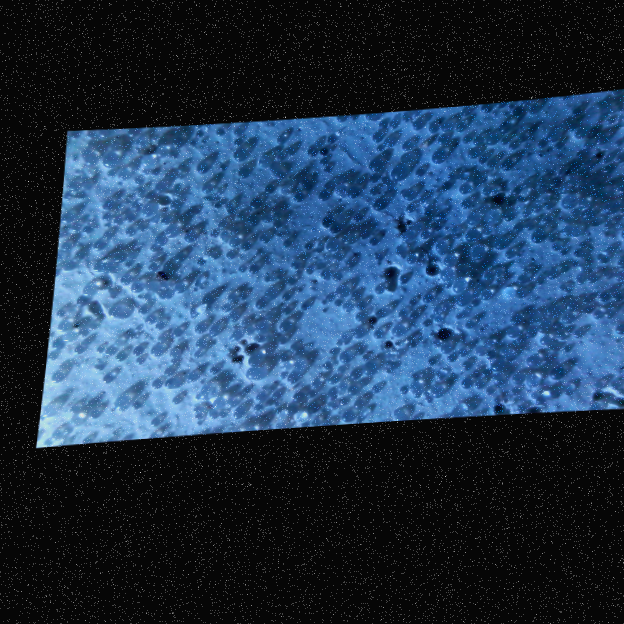GrassBeadSeg: (102, 155, 466, 404), (200, 244, 487, 397), (115, 291, 465, 408), (453, 200, 617, 413), (242, 175, 454, 311), (188, 222, 440, 319), (431, 162, 623, 251), (195, 352, 401, 424), (54, 199, 177, 317), (500, 186, 568, 358), (460, 197, 597, 282), (492, 294, 610, 381), (109, 152, 407, 180), (396, 336, 495, 419), (421, 290, 547, 355), (495, 322, 623, 383), (62, 280, 140, 379), (334, 358, 499, 403), (166, 334, 249, 419), (147, 217, 280, 270), (319, 306, 494, 346), (355, 269, 491, 320), (209, 288, 359, 334), (337, 252, 382, 404), (503, 133, 557, 255), (100, 140, 144, 288), (76, 333, 166, 404), (450, 177, 560, 235), (252, 357, 368, 410), (66, 290, 150, 362), (485, 133, 552, 223), (471, 275, 585, 327), (263, 337, 348, 406), (537, 264, 622, 331), (61, 392, 200, 432), (203, 342, 337, 383), (340, 209, 499, 242), (151, 260, 264, 306), (451, 276, 517, 354), (240, 133, 284, 250), (40, 362, 102, 445), (50, 412, 242, 438), (61, 344, 114, 436), (481, 274, 545, 348), (306, 121, 437, 156), (208, 229, 382, 255), (258, 231, 282, 416), (445, 142, 561, 180), (514, 250, 543, 399), (88, 378, 196, 418), (84, 295, 144, 363), (454, 207, 496, 304), (361, 167, 425, 229), (548, 308, 615, 363), (480, 347, 569, 388), (476, 327, 521, 407), (562, 332, 621, 393), (360, 372, 447, 413), (73, 192, 123, 263), (355, 164, 401, 241), (278, 171, 321, 252), (80, 324, 253, 344), (155, 201, 221, 249), (94, 378, 175, 417), (501, 197, 576, 239), (456, 311, 548, 344), (563, 287, 619, 341), (283, 298, 366, 334), (320, 370, 391, 410), (226, 358, 286, 405), (70, 167, 114, 231), (331, 339, 439, 365), (63, 409, 225, 426), (399, 119, 524, 141), (393, 398, 542, 416), (362, 348, 402, 415), (139, 217, 169, 305), (541, 316, 573, 397), (175, 153, 283, 177), (434, 140, 468, 215), (152, 290, 236, 320), (224, 371, 286, 411), (573, 334, 623, 383), (216, 290, 246, 370), (537, 202, 617, 232), (460, 104, 530, 137), (109, 379, 158, 425), (194, 239, 239, 289), (494, 214, 527, 281), (547, 248, 581, 313), (530, 194, 576, 241), (149, 193, 221, 223), (195, 295, 236, 347), (113, 384, 215, 404), (202, 181, 257, 218), (88, 131, 109, 226), (333, 232, 430, 252), (93, 290, 117, 369), (274, 172, 377, 190), (193, 306, 229, 357), (376, 108, 419, 150), (579, 205, 623, 246), (571, 298, 621, 334), (237, 236, 289, 270), (216, 219, 256, 263), (386, 119, 423, 166), (325, 143, 383, 172), (518, 203, 571, 234), (260, 202, 331, 225), (461, 201, 521, 228), (493, 238, 526, 287), (546, 256, 621, 277), (165, 166, 247, 185), (61, 170, 115, 198), (435, 367, 491, 394), (482, 184, 538, 211), (137, 173, 180, 208), (74, 327, 131, 353), (274, 252, 329, 278), (349, 369, 417, 390), (186, 371, 217, 417), (195, 256, 270, 275), (600, 153, 623, 214), (459, 375, 575, 387), (179, 364, 217, 400), (476, 158, 528, 184), (379, 272, 409, 317), (548, 225, 612, 246), (539, 316, 600, 338), (140, 234, 164, 288), (420, 285, 450, 328), (439, 310, 467, 356), (105, 195, 151, 223), (295, 250, 327, 290), (97, 129, 239, 138), (197, 385, 248, 410), (331, 292, 344, 390), (527, 103, 575, 129), (515, 267, 558, 296), (534, 277, 574, 308), (479, 271, 526, 297), (94, 273, 127, 310), (131, 346, 160, 386), (483, 334, 532, 357), (272, 399, 317, 424), (352, 202, 414, 220), (208, 273, 300, 285), (57, 345, 103, 369), (545, 211, 574, 249), (473, 130, 556, 143), (299, 271, 326, 310), (249, 171, 270, 221), (285, 132, 335, 153), (569, 152, 586, 213), (333, 298, 478, 305), (455, 119, 497, 143), (481, 226, 501, 275), (345, 259, 383, 284), (590, 310, 602, 389), (50, 403, 77, 438), (292, 244, 322, 274), (412, 341, 440, 373), (549, 309, 591, 330), (373, 307, 440, 320), (430, 359, 454, 395), (171, 327, 201, 355), (485, 139, 516, 166), (325, 347, 363, 369), (421, 288, 490, 300), (127, 272, 147, 313), (538, 273, 620, 283), (465, 243, 486, 282), (373, 286, 407, 310), (405, 228, 429, 262), (355, 210, 379, 244), (596, 228, 623, 258), (217, 208, 244, 238), (404, 204, 423, 246), (490, 358, 523, 382), (557, 181, 590, 205), (356, 310, 384, 338), (59, 306, 86, 335), (291, 347, 330, 367), (218, 155, 282, 167), (473, 378, 518, 395), (385, 344, 414, 370), (568, 197, 588, 234), (319, 255, 354, 276), (382, 117, 438, 130), (570, 101, 622, 115), (232, 396, 265, 418), (208, 239, 248, 257), (507, 143, 587, 152), (270, 389, 335, 400), (517, 272, 596, 281), (154, 180, 166, 239), (492, 335, 524, 357), (494, 364, 519, 392), (560, 329, 618, 341), (304, 388, 347, 404), (250, 324, 286, 343), (290, 365, 321, 387), (93, 320, 133, 337), (131, 398, 158, 423), (273, 351, 287, 399), (458, 360, 482, 388), (229, 248, 257, 272), (525, 373, 554, 396), (252, 334, 261, 408), (341, 176, 376, 195), (521, 342, 551, 364), (135, 292, 155, 325), (198, 421, 280, 429), (222, 219, 281, 230), (106, 198, 134, 221), (148, 134, 238, 141), (97, 215, 122, 240), (95, 343, 143, 356), (47, 349, 115, 358), (502, 210, 515, 257), (480, 156, 496, 194), (72, 261, 86, 304), (213, 182, 273, 192), (544, 310, 572, 331), (478, 137, 506, 158), (425, 356, 470, 369), (336, 364, 356, 393), (60, 222, 80, 251), (374, 313, 408, 330), (284, 276, 308, 300), (409, 340, 424, 377), (292, 382, 321, 401), (338, 176, 363, 198), (221, 302, 247, 323), (397, 384, 439, 397), (517, 366, 562, 378), (401, 302, 414, 343), (502, 136, 543, 149), (472, 343, 486, 381), (258, 297, 291, 313), (611, 102, 623, 146), (486, 102, 538, 112), (155, 139, 241, 145), (286, 372, 337, 382), (600, 163, 623, 185), (597, 255, 609, 297), (249, 187, 274, 207), (284, 289, 309, 309), (602, 292, 622, 317), (407, 297, 477, 304), (176, 144, 194, 171), (409, 374, 431, 396), (565, 276, 609, 287), (499, 390, 536, 403), (404, 278, 452, 288), (255, 391, 302, 401), (51, 342, 63, 381), (56, 330, 74, 356), (92, 255, 123, 270), (543, 304, 576, 318), (457, 123, 481, 142), (139, 394, 180, 405), (228, 234, 269, 245), (91, 228, 112, 249), (352, 390, 379, 406), (404, 310, 417, 343), (462, 319, 474, 354), (526, 353, 539, 385), (328, 384, 344, 410), (604, 116, 620, 142), (423, 195, 441, 218), (611, 186, 622, 223), (74, 250, 103, 264), (136, 143, 144, 193), (604, 141, 623, 162), (207, 404, 235, 418), (525, 213, 551, 228), (142, 213, 168, 228), (317, 157, 330, 187), (512, 192, 528, 216), (503, 394, 523, 413), (522, 327, 560, 337), (598, 134, 611, 163), (103, 226, 134, 238), (581, 282, 593, 313), (337, 371, 348, 404), (505, 200, 524, 219), (453, 314, 483, 326), (346, 385, 362, 407), (153, 320, 180, 333), (259, 384, 277, 403), (294, 257, 314, 274), (558, 240, 584, 253), (107, 289, 149, 297), (63, 241, 74, 271), (427, 303, 442, 325), (50, 335, 75, 348), (266, 384, 280, 407), (147, 221, 158, 250), (112, 351, 124, 377), (430, 352, 456, 364), (464, 102, 490, 114), (81, 223, 91, 254), (544, 181, 558, 203), (309, 408, 326, 426), (149, 373, 172, 386), (293, 349, 335, 356), (239, 294, 248, 326), (246, 213, 272, 224), (132, 175, 143, 201), (282, 360, 296, 380), (280, 238, 311, 247), (150, 168, 183, 176), (412, 314, 441, 323), (161, 366, 174, 386), (215, 167, 225, 193), (483, 209, 501, 223), (321, 267, 342, 279), (141, 167, 182, 173), (161, 284, 196, 291), (109, 301, 124, 317), (322, 180, 362, 186), (144, 314, 162, 327), (511, 105, 540, 113), (513, 219, 534, 230), (581, 161, 614, 168), (303, 241, 313, 264), (378, 117, 397, 129), (308, 390, 336, 398), (518, 127, 532, 143), (452, 227, 489, 233), (213, 247, 235, 257), (310, 145, 328, 157), (221, 210, 245, 219), (421, 369, 429, 396), (542, 139, 560, 151), (42, 401, 57, 415), (206, 128, 223, 140), (583, 157, 623, 162), (367, 174, 377, 194), (332, 254, 343, 272), (155, 143, 169, 157), (116, 166, 131, 179), (140, 153, 155, 166), (56, 318, 71, 331), (149, 342, 164, 355), (71, 411, 86, 424), (340, 297, 355, 310), (408, 380, 420, 396), (372, 196, 386, 209), (346, 184, 360, 197), (368, 157, 382, 170), (458, 180, 472, 193), (466, 210, 480, 223), (258, 152, 271, 166), (142, 201, 155, 215), (195, 159, 209, 172), (84, 150, 97, 164), (245, 365, 259, 378), (168, 345, 182, 358), (339, 348, 353, 361), (263, 285, 277, 298), (464, 227, 478, 240), (592, 380, 618, 387), (165, 223, 180, 235), (81, 282, 96, 294), (287, 343, 302, 355), (509, 184, 527, 194), (276, 135, 293, 145), (431, 149, 444, 162), (184, 228, 197, 241), (391, 323, 404, 336), (227, 308, 240, 321), (247, 352, 260, 365), (403, 186, 416, 199), (435, 238, 448, 251), (443, 252, 456, 265), (508, 311, 521, 324), (325, 237, 339, 249), (233, 146, 247, 158), (277, 319, 291, 331), (254, 319, 268, 331), (335, 283, 349, 295), (293, 409, 307, 421), (362, 361, 376, 373), (352, 325, 366, 337), (193, 320, 207, 332), (401, 228, 415, 240), (439, 266, 453, 278), (438, 341, 452, 353), (494, 392, 535, 396), (289, 259, 299, 275), (269, 398, 279, 414), (212, 395, 225, 407), (341, 408, 354, 420), (573, 125, 586, 137), (323, 134, 336, 146), (506, 325, 520, 336), (400, 138, 414, 149), (351, 288, 365, 299), (325, 292, 342, 301), (402, 388, 421, 396), (357, 230, 378, 237), (531, 201, 552, 208), (436, 132, 448, 144), (329, 220, 341, 232), (362, 383, 380, 391), (407, 247, 425, 255), (134, 219, 146, 231), (81, 320, 97, 329), (400, 113, 418, 121), (580, 207, 593, 218), (499, 158, 512, 169), (466, 145, 479, 156), (498, 120, 511, 131), (411, 117, 424, 128), (440, 119, 453, 130), (279, 291, 290, 304), (188, 132, 201, 143), (262, 273, 282, 280), (86, 131, 106, 138), (518, 98, 528, 112), (352, 376, 369, 384), (602, 271, 619, 279), (148, 293, 163, 302), (492, 268, 501, 283), (502, 285, 514, 296), (371, 130, 383, 141), (128, 201, 141, 211), (551, 247, 583, 251), (102, 200, 113, 211), (383, 135, 395, 145), (101, 213, 121, 219), (192, 396, 200, 411), (564, 299, 576, 309), (157, 284, 165, 298), (318, 189, 329, 199), (292, 190, 303, 200), (174, 250, 184, 261), (119, 273, 130, 283), (60, 211, 71, 221), (105, 166, 115, 177), (358, 350, 369, 360), (320, 162, 331, 172), (607, 378, 619, 387), (276, 411, 283, 426), (197, 130, 205, 143), (174, 281, 184, 291), (231, 329, 241, 339), (334, 183, 345, 192), (101, 372, 112, 381), (589, 308, 600, 317), (328, 343, 341, 350), (423, 389, 430, 402), (219, 201, 232, 208), (124, 225, 133, 235), (610, 291, 619, 301), (224, 206, 233, 216), (600, 219, 610, 228), (593, 134, 602, 144), (135, 193, 152, 198), (558, 283, 570, 290), (555, 331, 566, 338), (122, 351, 140, 355), (563, 284, 572, 292), (461, 135, 469, 144), (336, 339, 347, 345), (132, 325, 140, 332), (561, 344, 568, 351), (416, 195, 423, 202)
